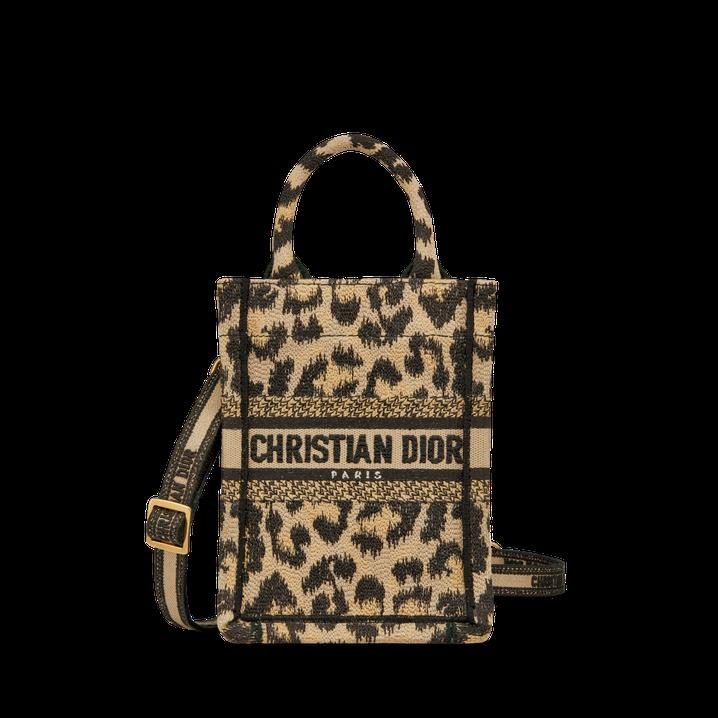DIOR: (245, 403, 474, 495)
